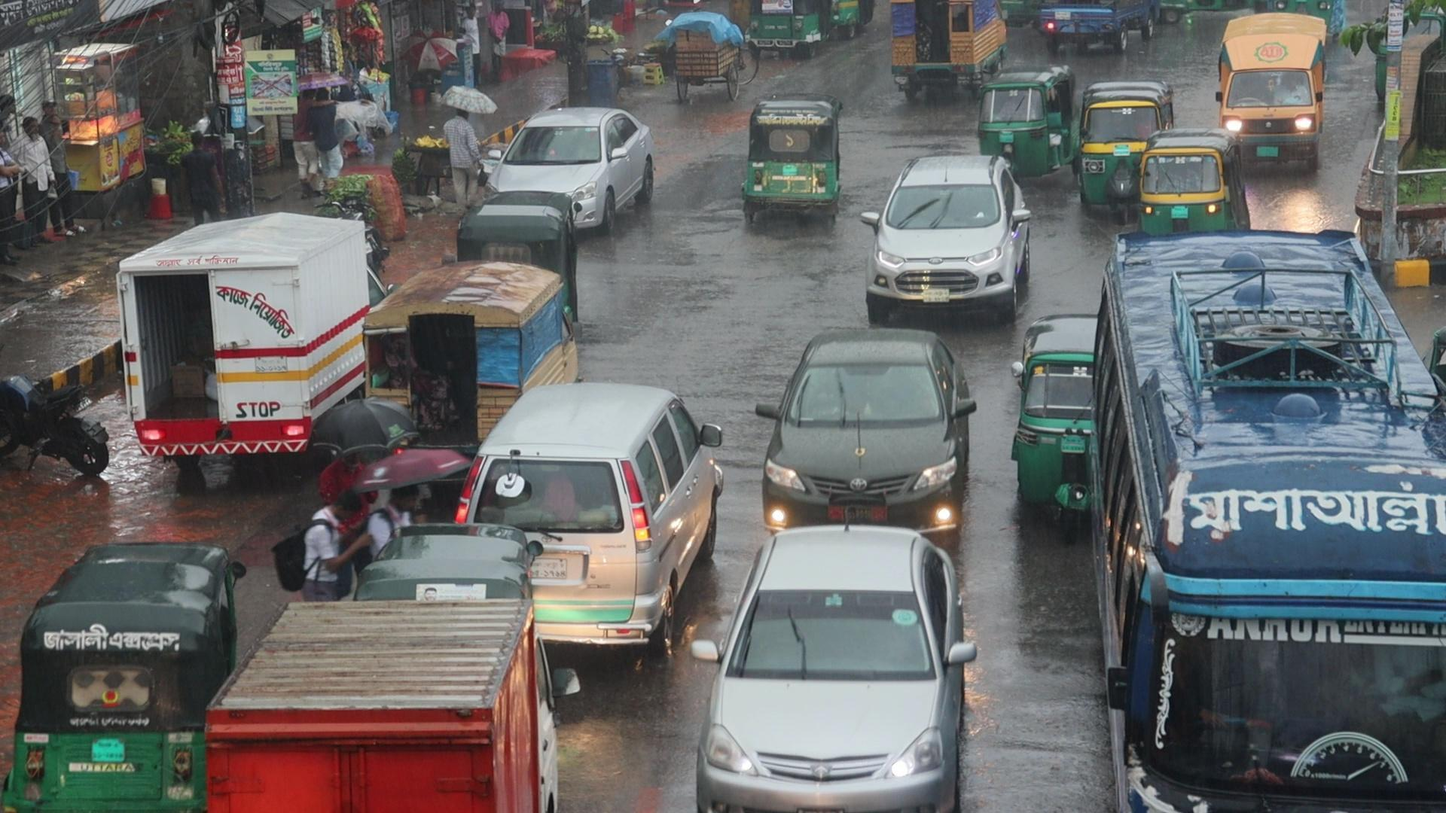Bus: (1089, 228, 1446, 813)
Car: (689, 513, 979, 813), (457, 380, 721, 561), (756, 328, 978, 532), (861, 155, 1033, 326)
Truck: (195, 590, 580, 813), (358, 257, 575, 425), (1215, 12, 1326, 145)
